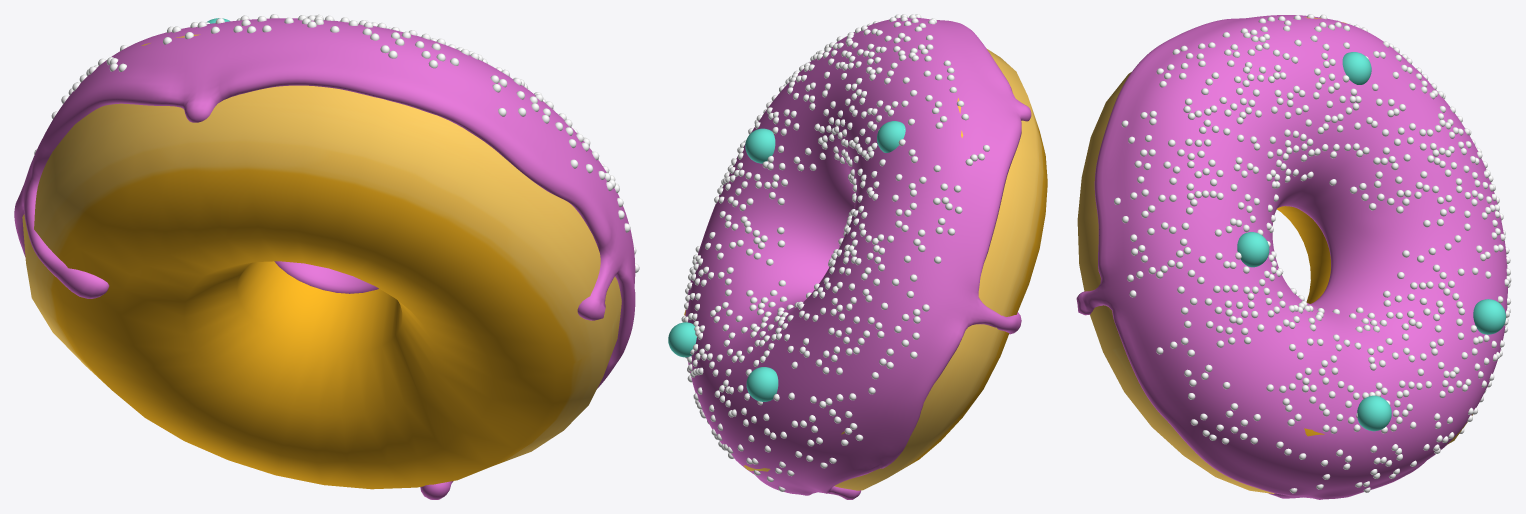
Rendered from donut5.glb.
3 views of the same model, side by side, from view 1: azimuth 30°, elevation 25°; view 2: azimuth 150°, elevation 25°; view 3: azimuth 270°, elevation 25° (orthographic). The views are drawn at different scales.
Visible parts, largest first — view 1: Donut.005, Icing.005; view 2: Icing.005, Donut.005, Sphere.004, Sphere.003, Sphere.002, Sphere.001; view 3: Icing.005, Donut.005, Sphere.002, Sphere.004, Sphere.003, Sphere.001.
Part boxes in pixels (x1,y1,x2,y2): Donut.005: [22, 34, 621, 489]; Icing.005: [14, 18, 635, 499]; Icing.005: [685, 17, 1031, 499]; Donut.005: [684, 48, 1047, 490]; Sphere.004: [746, 367, 778, 401]; Sphere.003: [745, 128, 775, 163]; Sphere.002: [668, 322, 696, 357]; Sphere.001: [877, 121, 905, 152]; Icing.005: [1076, 15, 1507, 499]; Donut.005: [1077, 17, 1472, 493]; Sphere.002: [1357, 395, 1391, 431]; Sphere.004: [1473, 299, 1505, 334]; Sphere.003: [1237, 232, 1269, 267]; Sphere.001: [1342, 52, 1371, 84].
Size of the model in its own units: 0.1079 by 0.1123 by 0.1065.
4 materials, 1 textured.
